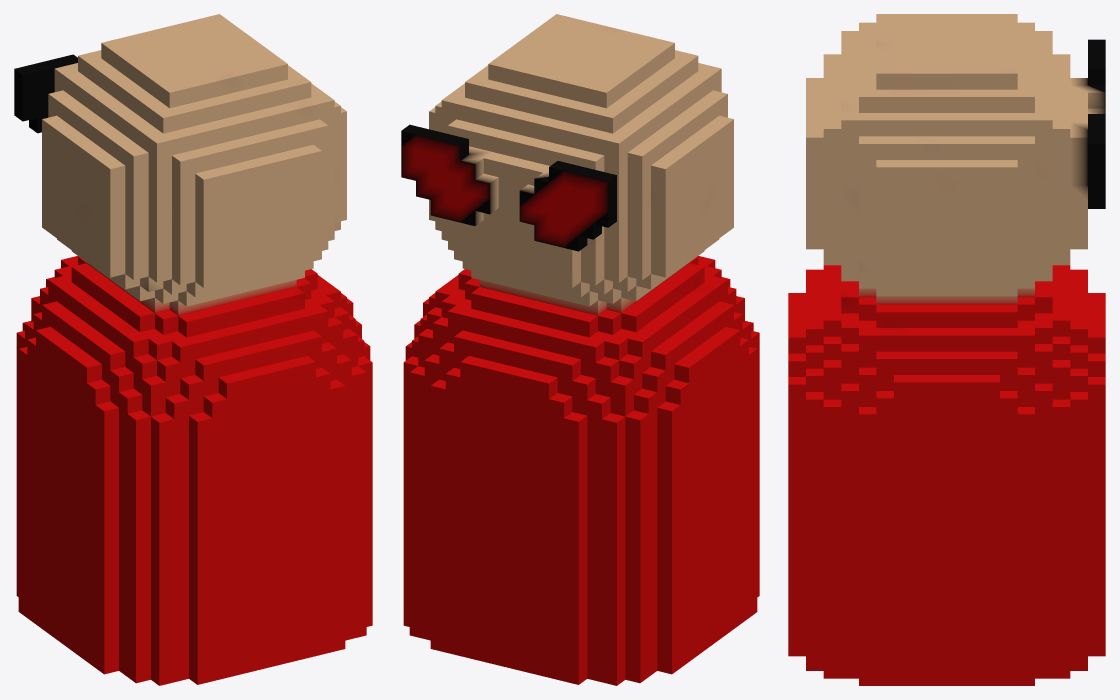
File: EnemyModel.obj
3 views of the same model, side by side, from view 1: azimuth 30°, elevation 25°; view 2: azimuth 150°, elevation 25°; view 3: azimuth 270°, elevation 25° (orthographic). The views are drawn at different scales.
Parts seen in each view (by area): view 1: EnemyModel; view 2: EnemyModel; view 3: EnemyModel.
Boxes of the visible parts, x1,y1,x2,y2 form: EnemyModel: (14,14,372,685); EnemyModel: (401,14,759,685); EnemyModel: (788,14,1105,685).
Size of the model in its own units: 1.8 by 3.6 by 1.8.
